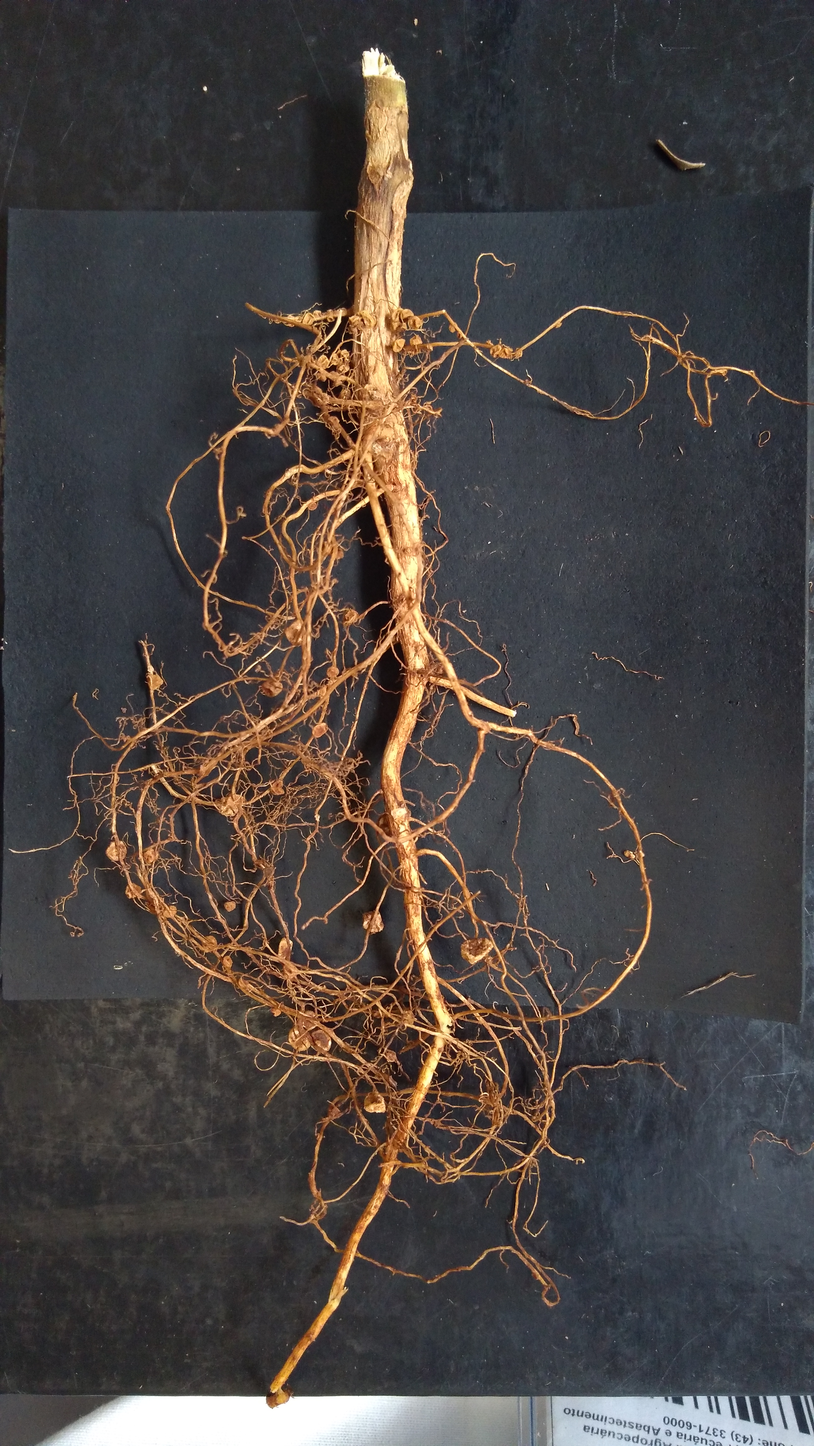nodule: (455, 934, 499, 969), (259, 1384, 298, 1412), (360, 907, 387, 939), (283, 617, 308, 650), (215, 791, 246, 817), (362, 1090, 390, 1117), (286, 1025, 312, 1053), (309, 1027, 333, 1055), (259, 677, 287, 700), (103, 839, 129, 863), (299, 1008, 321, 1033), (277, 962, 302, 980), (268, 779, 288, 799), (359, 309, 378, 330), (145, 673, 164, 694), (140, 846, 161, 865), (197, 933, 218, 952), (124, 882, 145, 901), (277, 935, 293, 959), (309, 721, 330, 739), (400, 1009, 420, 1027), (342, 607, 361, 624), (406, 315, 424, 331), (390, 338, 407, 354), (487, 342, 503, 359), (325, 664, 342, 680), (337, 386, 353, 401), (162, 903, 178, 918), (334, 361, 351, 375), (409, 333, 425, 347), (316, 354, 330, 370), (398, 306, 416, 318), (221, 953, 234, 968), (269, 1006, 285, 1018), (329, 352, 341, 367), (222, 900, 237, 912), (314, 371, 327, 384), (335, 546, 346, 561), (498, 347, 511, 359), (447, 320, 458, 334), (306, 500, 318, 512), (339, 349, 352, 360), (327, 415, 340, 426), (385, 1049, 396, 1062), (328, 370, 341, 380), (331, 379, 344, 388), (514, 348, 523, 359), (319, 685, 328, 696), (454, 330, 463, 339), (553, 321, 562, 328)
